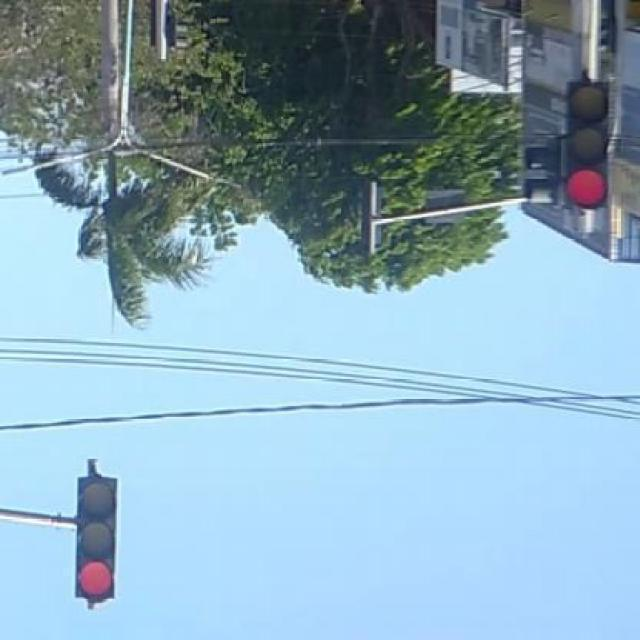red_light: (74, 457, 116, 604), (562, 77, 606, 207)
